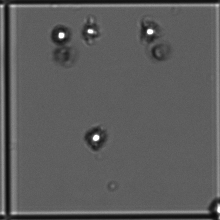Dead Cell: (49, 47, 77, 67), (148, 45, 173, 65)
Living Cell: (85, 126, 112, 153), (51, 24, 72, 43), (139, 22, 160, 40), (81, 24, 99, 37)
